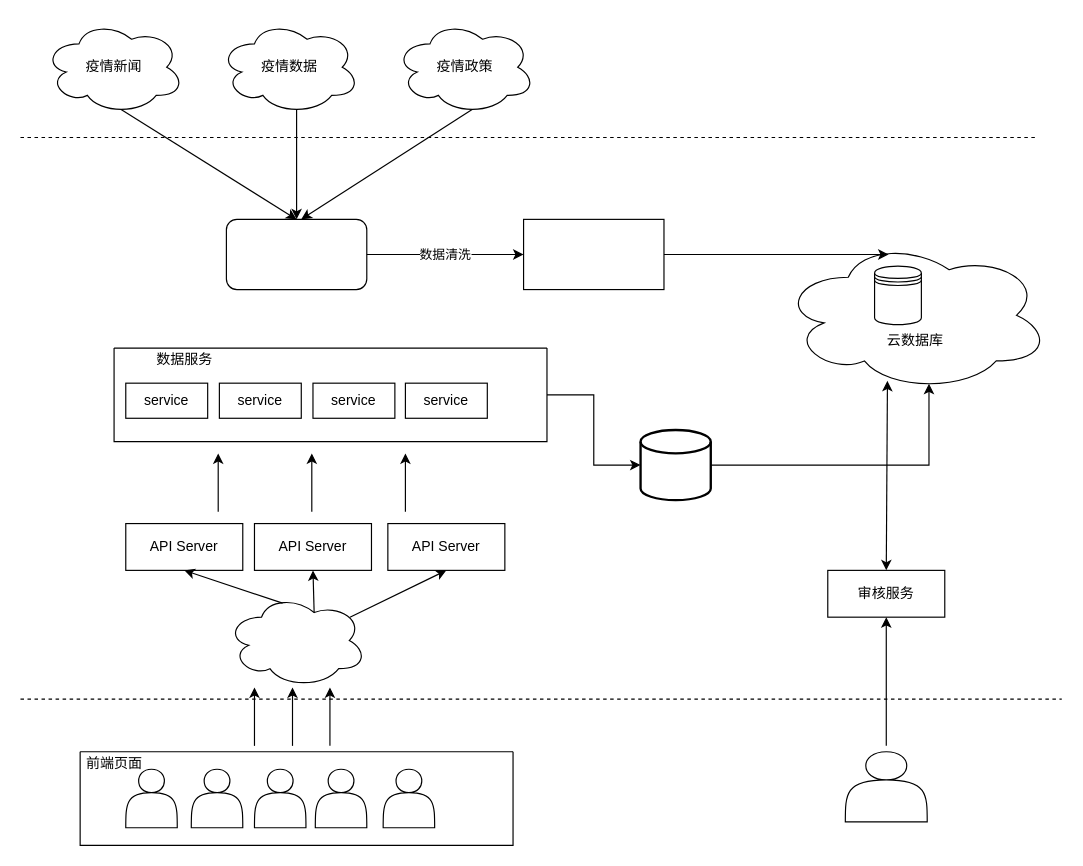
Image size: 1083x866. Some labels were removed from this diagram. Each missing label, with the box of its shape:
CLB: (225, 593, 367, 687)
redis: (639, 428, 711, 501)
审核人员: (844, 751, 927, 822)
数据处理服务: (522, 218, 664, 290)
爬虫服务: (225, 218, 367, 290)
